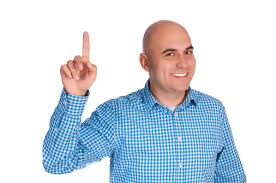hand: (45, 23, 105, 97)
